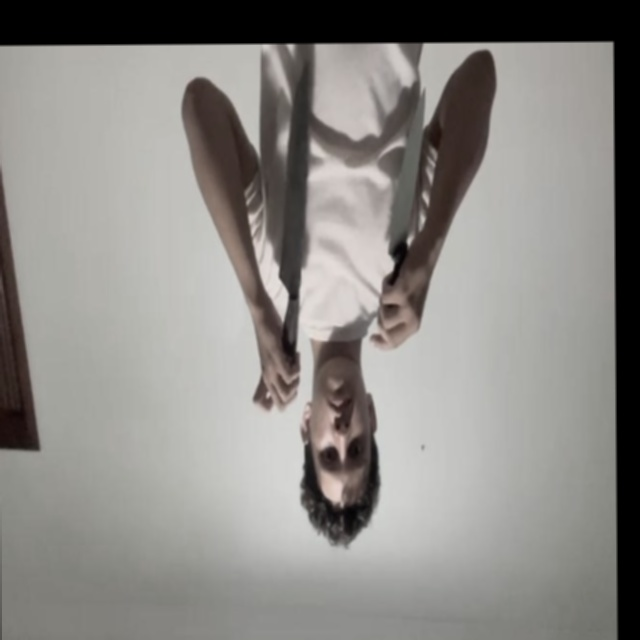Sharp-Object: (387, 89, 427, 260), (278, 68, 308, 292)
